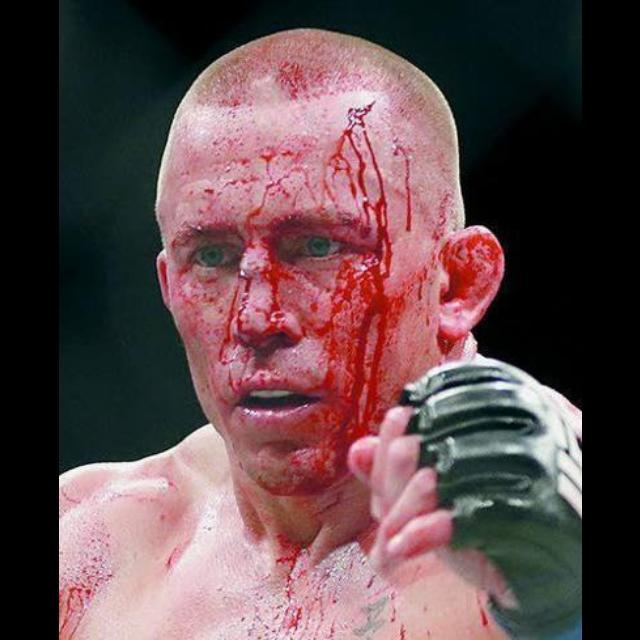blood: (162, 94, 504, 500), (223, 516, 356, 640), (58, 507, 114, 639), (262, 59, 324, 101)
